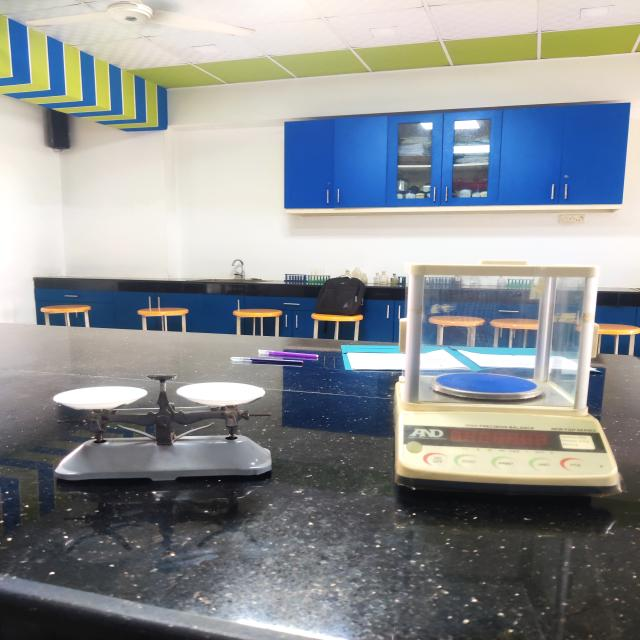Mechanical_Balance_Scale: (38, 362, 299, 507)
Precision_Weight_Scale: (367, 238, 638, 530)
